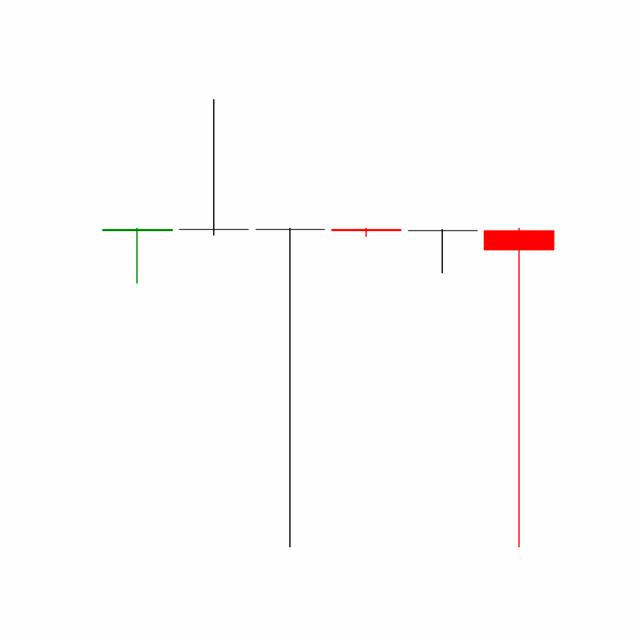Dragonfly Doji: (403, 227, 481, 274)
